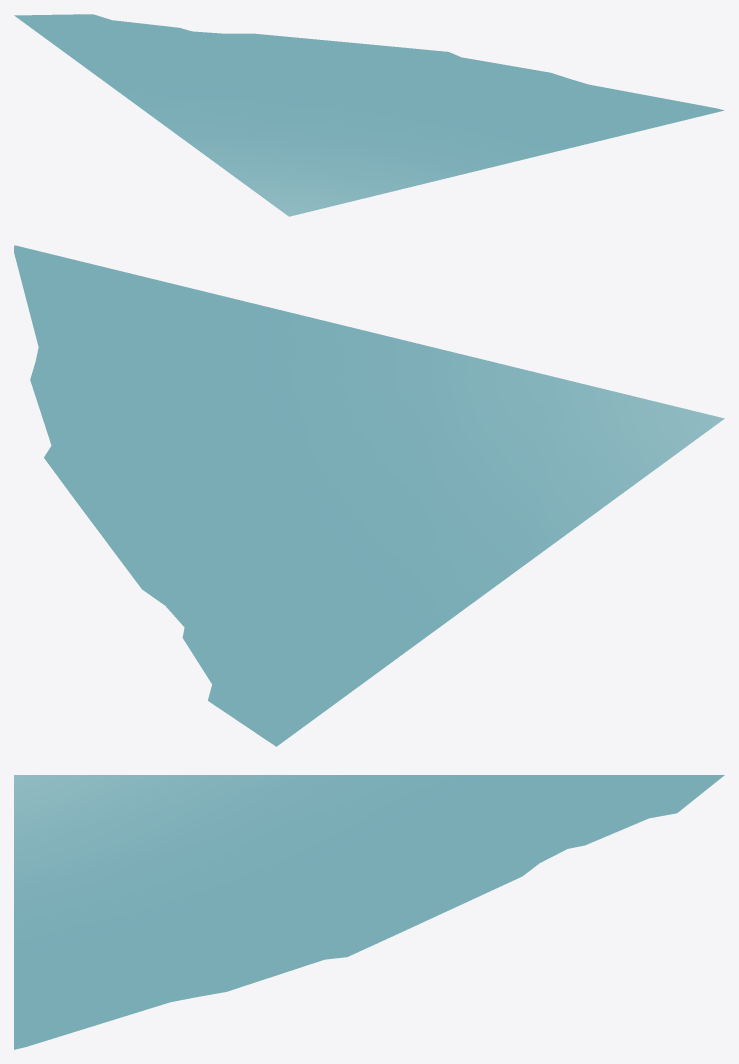
The picture shows the model from 3 angles, top to bottom: view 1: azimuth 30°, elevation 25°; view 2: azimuth 150°, elevation 25°; view 3: azimuth 270°, elevation 25°; orthographic projection. The views are drawn at different scales.
Visible parts, largest first — view 1: city; view 2: city; view 3: city.
Part boxes in pixels (x1=…): city: x1=14, y1=14, x2=724, y2=216; city: x1=14, y1=245, x2=724, y2=746; city: x1=14, y1=775, x2=724, y2=1049.
Size of the model in its own units: 192 by 0 by 210.
